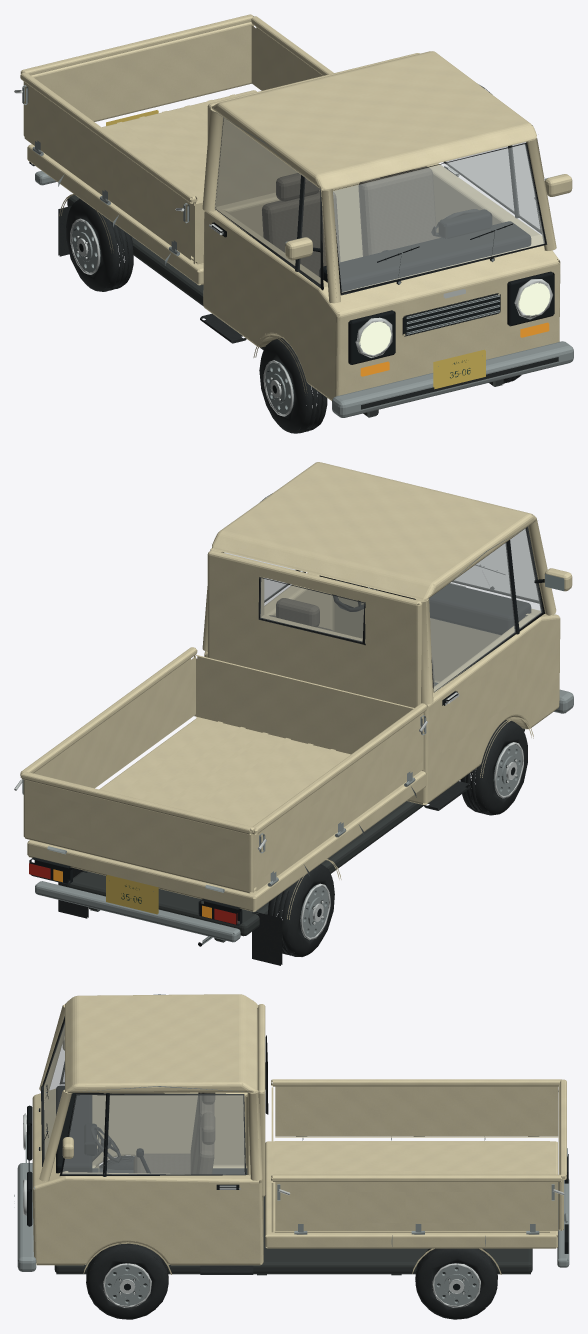
Rendered from kei_truck-v11.glb.
The picture shows the model from 3 angles, top to bottom: view 1: azimuth 30°, elevation 25°; view 2: azimuth 150°, elevation 25°; view 3: azimuth 270°, elevation 25°; orthographic projection. The views are drawn at different scales.
Visible parts, largest first — view 1: Body, Wheel_RL_mesh, Wheel_FL_mesh; view 2: Body, Wheel_FL_mesh, Wheel_RL_mesh; view 3: Body, Wheel_FR_mesh, Wheel_RR_mesh.
Boxes of the visible parts, x1=… form: Body: x1=14, y1=14, x2=573, y2=417; Wheel_RL_mesh: x1=66, y1=199, x2=133, y2=291; Wheel_FL_mesh: x1=259, y1=338, x2=327, y2=433; Body: x1=14, y1=462, x2=573, y2=965; Wheel_FL_mesh: x1=460, y1=720, x2=527, y2=815; Wheel_RL_mesh: x1=267, y1=864, x2=334, y2=956; Body: x1=14, y1=994, x2=569, y2=1275; Wheel_FR_mesh: x1=86, y1=1243, x2=168, y2=1319; Wheel_RR_mesh: x1=415, y1=1248, x2=497, y2=1319.
Bounding box in the file's own units: 1.76 × 1.65 × 3.54.
Materials: 16 (3 with a texture image).
